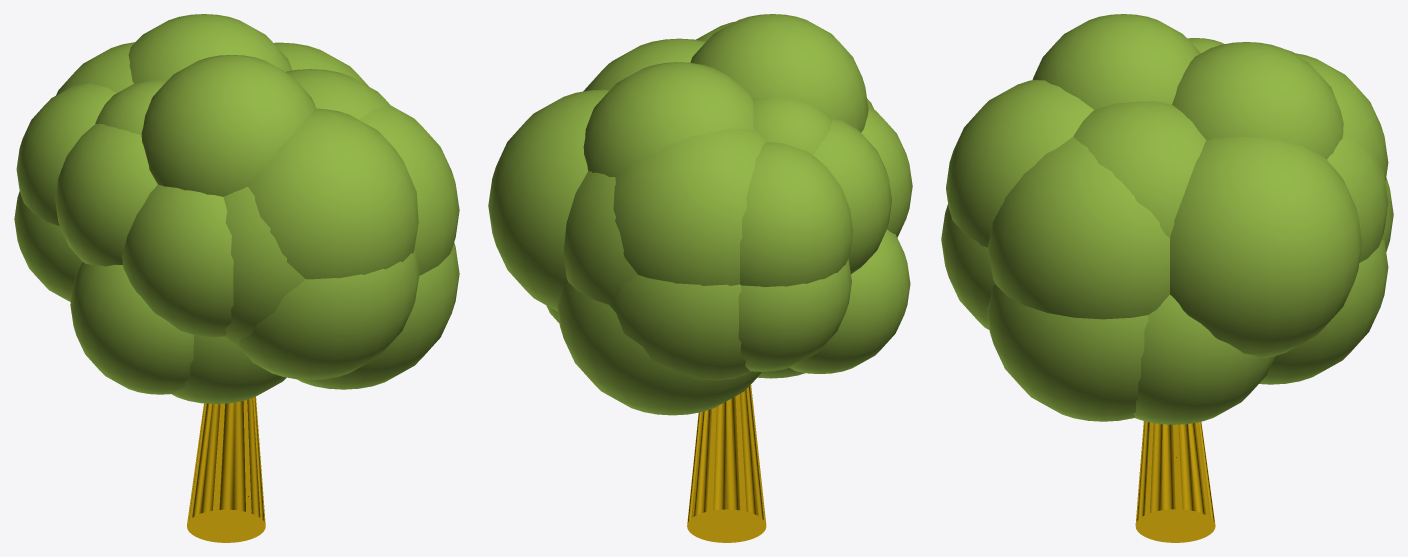
The model's file is tree.glb.glb.
The picture shows the model from 3 angles, left to right: view 1: azimuth 30°, elevation 25°; view 2: azimuth 150°, elevation 25°; view 3: azimuth 270°, elevation 25°; orthographic projection.
Visible parts, largest first — view 1: Sphère_32, Sphère_11, Sphère_30, Sphère_19, Sphère_15, Sphère_17, Cylindre, Sphère_27, Sphère_26, Sphère_18, Sphère_14, Sphère_28 (+6 smaller); view 2: Sphère_25, Sphère_33, Sphère_18, Sphère_14, Sphère_11, Sphère_35, Sphère_23, Cylindre, Sphère_16, Sphère_15, Sphère_34, Sphère_17 (+3 smaller); view 3: Sphère_33, Sphère_27, Sphère_28, Sphère_14, Sphère_32, Sphère_11, Sphère_29, Sphère_31, Cylindre, Sphère_35, Sphère_34, Sphère_30 (+1 smaller).
Part boxes in pixels (box(x1,y1,x2,y2)): Sphère_32: box(248, 108, 418, 279); Sphère_11: box(141, 55, 316, 196); Sphère_30: box(237, 250, 419, 379); Sphère_19: box(122, 184, 233, 337); Sphère_15: box(70, 262, 193, 394); Sphère_17: box(55, 124, 157, 266); Cylindre: box(187, 397, 265, 542); Sphère_27: box(358, 104, 459, 275); Sphère_26: box(223, 186, 304, 344); Sphère_18: box(16, 83, 116, 225); Sphère_14: box(128, 14, 292, 83); Sphère_28: box(297, 243, 459, 389); Sphère_25: box(613, 128, 766, 285); Sphère_33: box(488, 89, 609, 311); Sphère_18: box(740, 142, 852, 287); Sphère_14: box(583, 62, 753, 177); Sphère_11: box(690, 14, 868, 132); Sphère_35: box(557, 282, 761, 415); Sphère_23: box(609, 275, 751, 380); Cylindre: box(687, 385, 766, 542); Sphère_16: box(738, 259, 851, 371); Sphère_15: box(789, 229, 910, 373); Sphère_34: box(563, 171, 637, 304); Sphère_17: box(813, 119, 891, 274); Sphère_33: box(1170, 136, 1362, 357); Sphère_27: box(988, 137, 1169, 319); Sphère_28: box(987, 284, 1148, 421); Sphère_14: box(1172, 42, 1343, 159); Sphère_32: box(946, 80, 1093, 247); Sphère_11: box(1032, 14, 1200, 109); Sphère_29: box(1133, 295, 1275, 424); Sphère_31: box(1073, 101, 1206, 237); Cylindre: box(1135, 421, 1215, 542); Sphère_35: box(1259, 239, 1388, 384); Sphère_34: box(1327, 133, 1388, 262); Sphère_30: box(941, 204, 994, 329).
Bounding box in the file's own units: 530 × 715 × 594.
